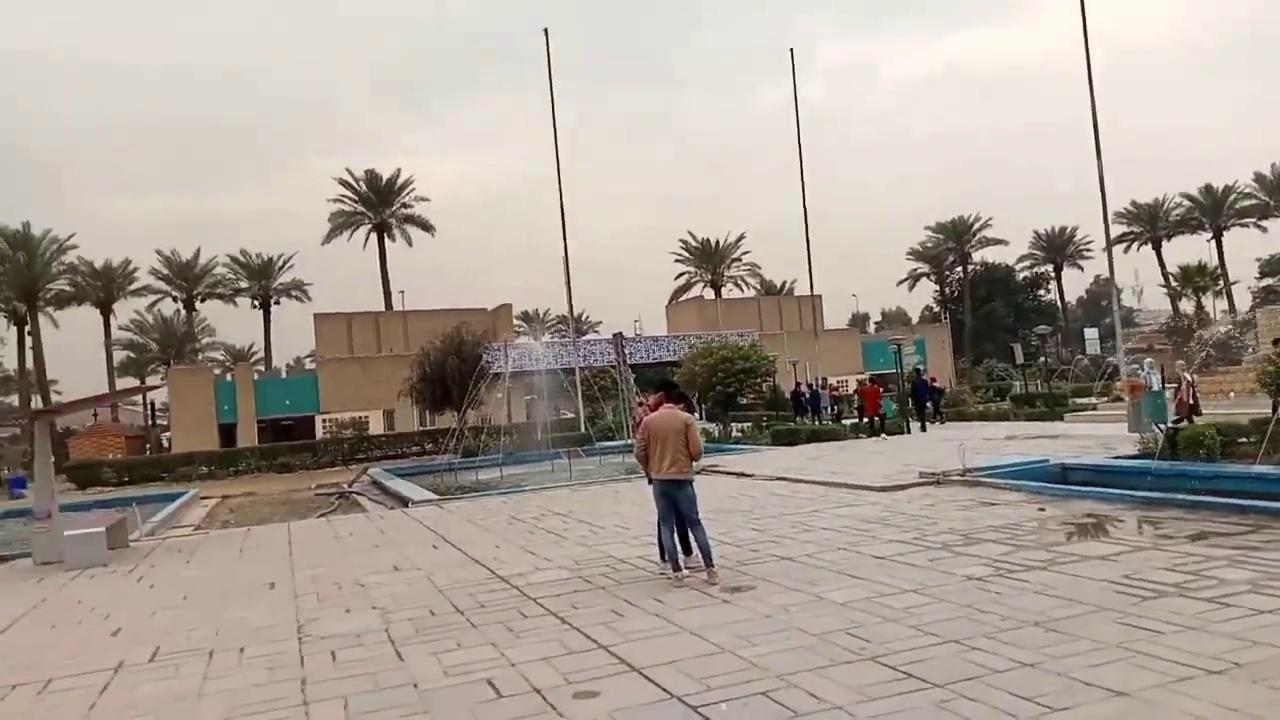fountain: (362, 322, 1275, 511), (365, 329, 651, 507), (1, 379, 201, 568), (917, 417, 1278, 510)
person: (633, 378, 719, 585), (1170, 359, 1199, 425), (909, 366, 929, 432), (1267, 337, 1279, 416), (928, 376, 946, 424), (1141, 357, 1162, 391)
tree: (320, 165, 436, 310), (51, 254, 148, 419), (0, 218, 79, 411), (923, 210, 1009, 367), (1175, 178, 1268, 318), (1108, 191, 1200, 324), (218, 246, 313, 371), (672, 333, 776, 440), (139, 245, 230, 364), (396, 319, 496, 427), (1015, 223, 1095, 356), (896, 235, 966, 383), (666, 227, 762, 326), (113, 306, 210, 381), (511, 306, 561, 438), (549, 309, 602, 432), (1239, 160, 1279, 293), (113, 350, 165, 426), (1170, 258, 1224, 322), (1241, 160, 1279, 223), (115, 350, 164, 386), (215, 341, 263, 377), (511, 306, 559, 342), (551, 309, 602, 341), (874, 304, 911, 333), (1253, 250, 1279, 291), (755, 276, 797, 296), (283, 350, 315, 375)
